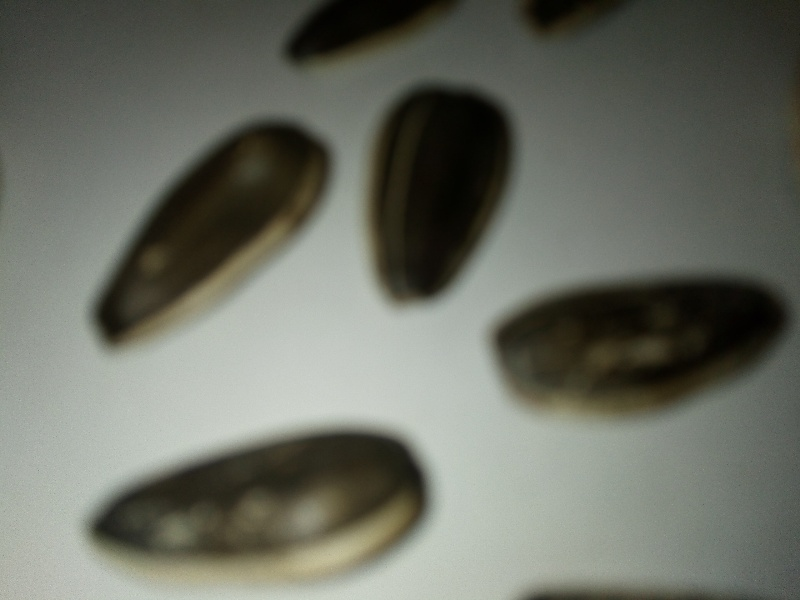w: (74, 408, 444, 594)
